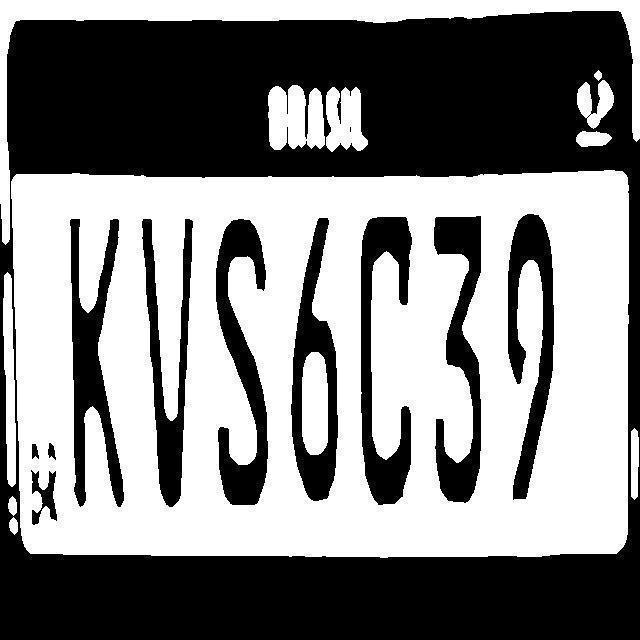3: (428, 212, 492, 516)
6: (284, 210, 351, 520)
9: (500, 213, 557, 522)
c: (358, 214, 417, 515)
k: (68, 211, 136, 518)
s: (213, 219, 278, 507)
v: (143, 220, 200, 508)
